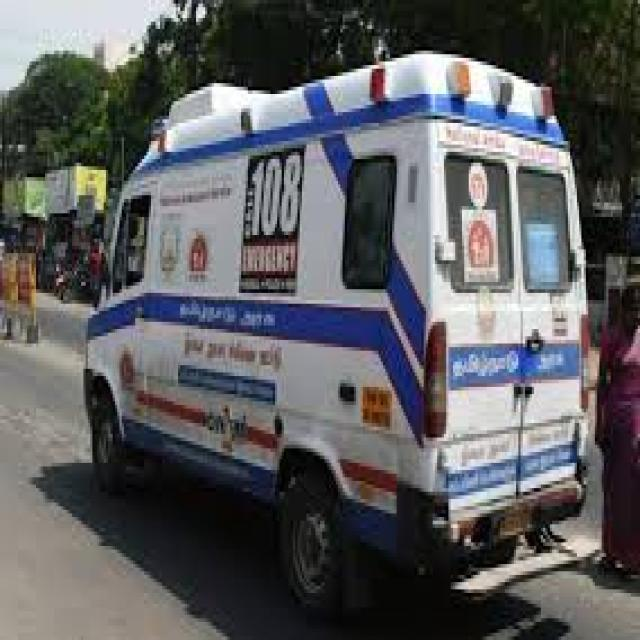Ambulance: (81, 72, 604, 622)
